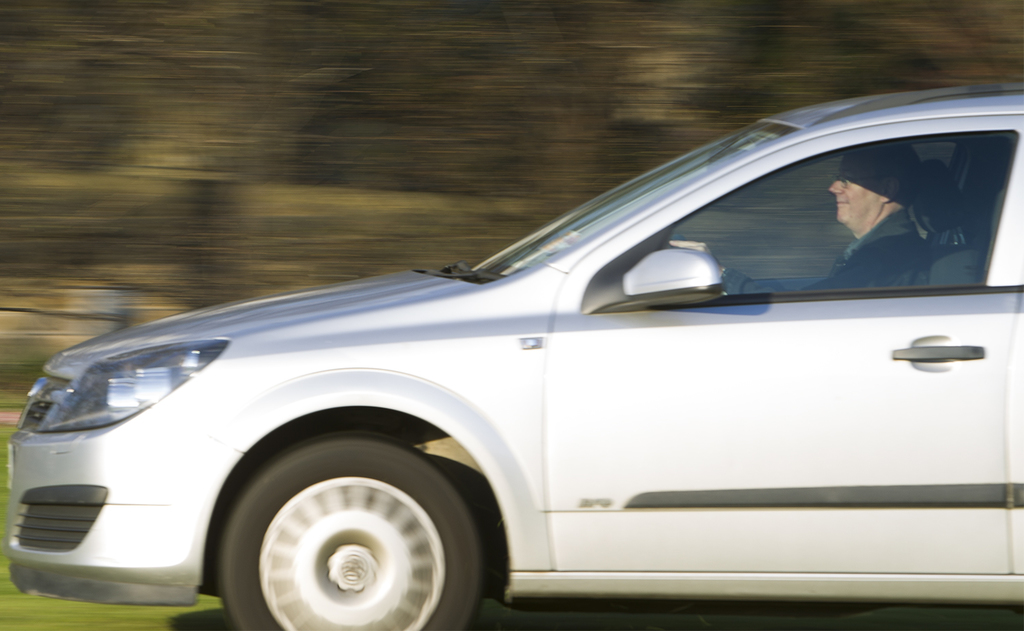Car: (6, 81, 1023, 630)
